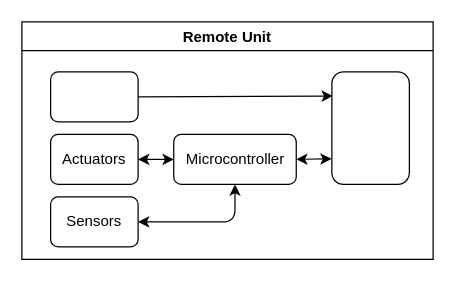
The diagram is 455 pixels wide and 281 high, and some of its shapes have lost their labels. Here are the shapes that lost their labels. From the top down, the centre of each, then its label:
At point 93,96: "Camera".
At point 370,127: "Computer".
